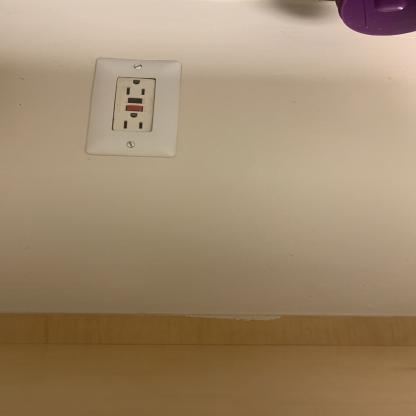OUTLET: (87, 60, 184, 157)
